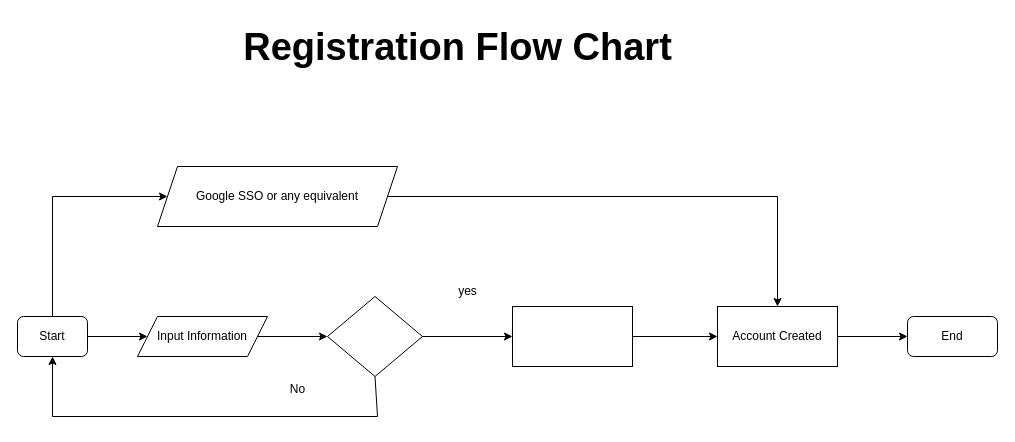
This 1015x442 diagram has some shape labels left out. Each missing label, with the centre of its shape:
Accept Policy: pixel 374 336
Authentication: pixel 572 336
